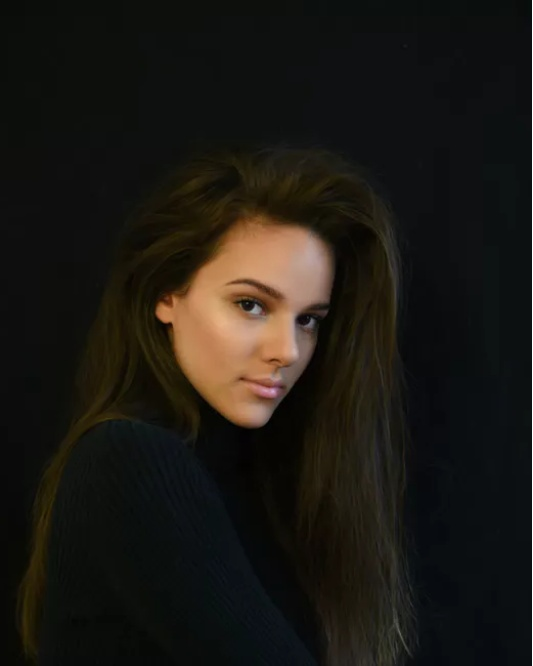face: (182, 223, 333, 431)
